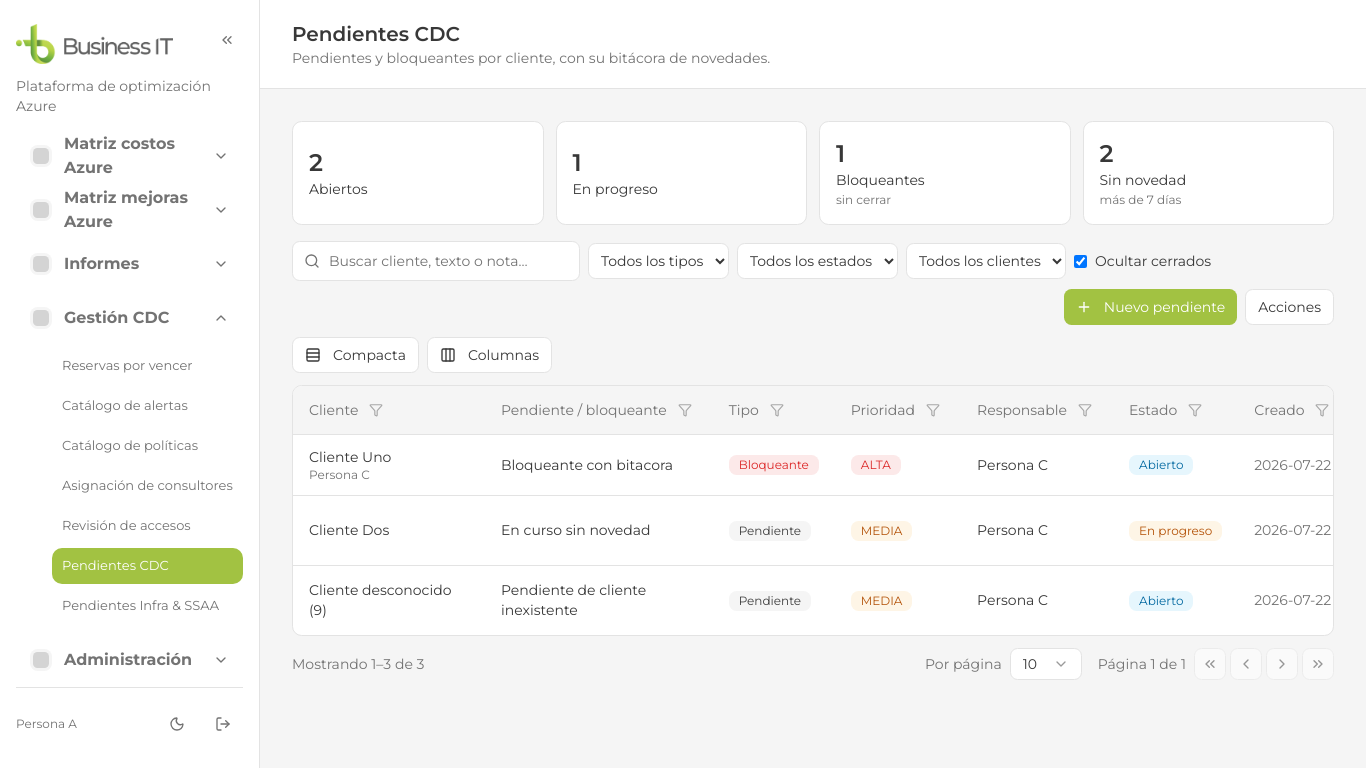
borrar una nota la saca del historial sin cerrar el dialogo
Click the text "Bloqueante con bitacora" at {"x": 599, "y": 464}, box [501,454,697,474]
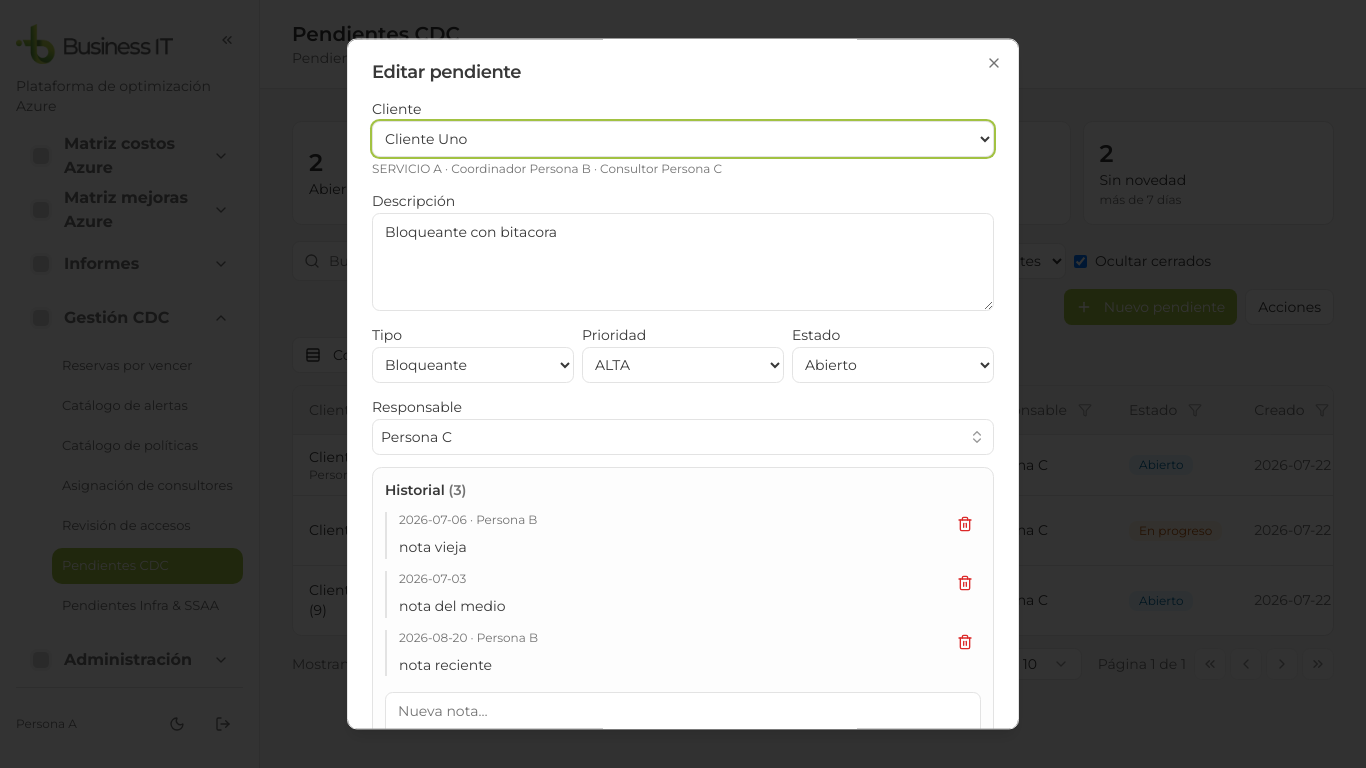
Click the button named "eliminar nota" in the row of "2026-07-06" at {"x": 965, "y": 524}, box [953,512,977,536]
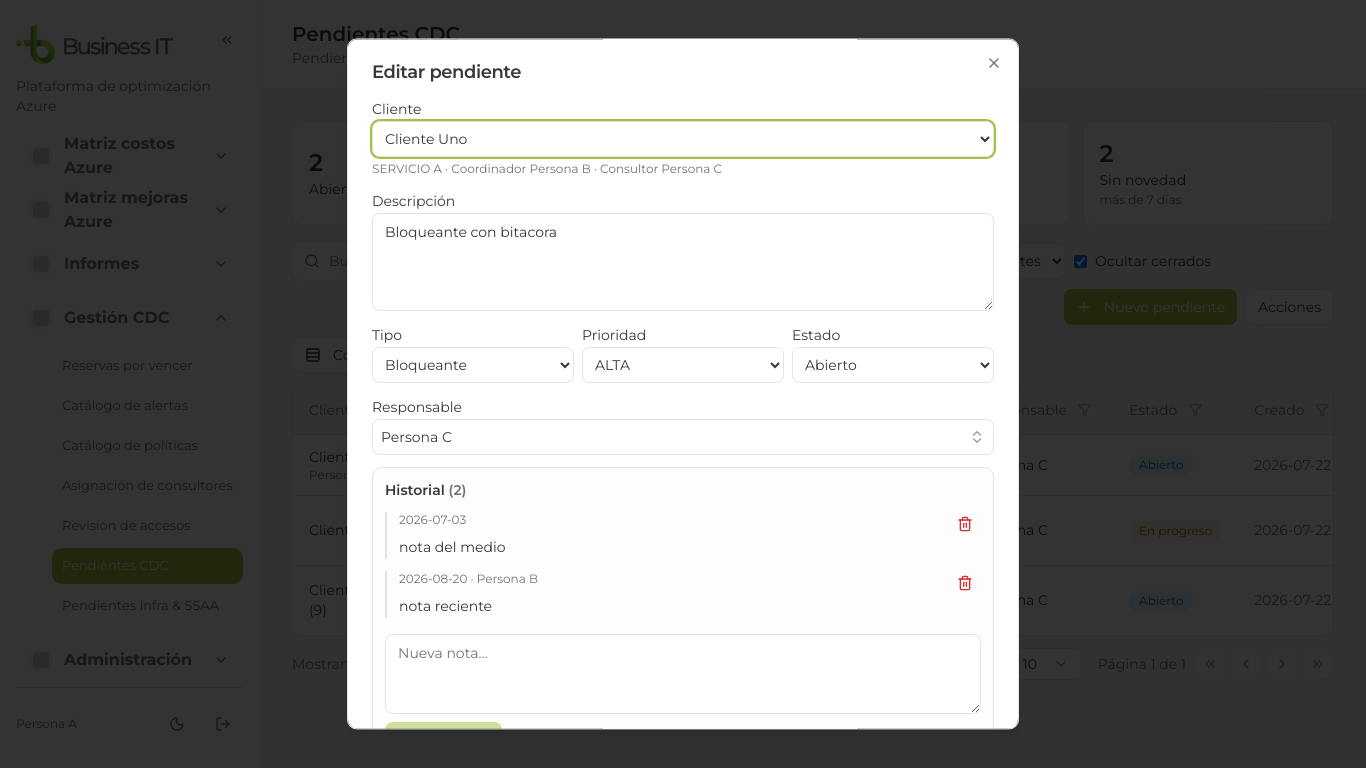
Now the number of list items is 2, box [385,512,977,559]; [385,571,977,618]
Now the text "nota vieja" is gone
